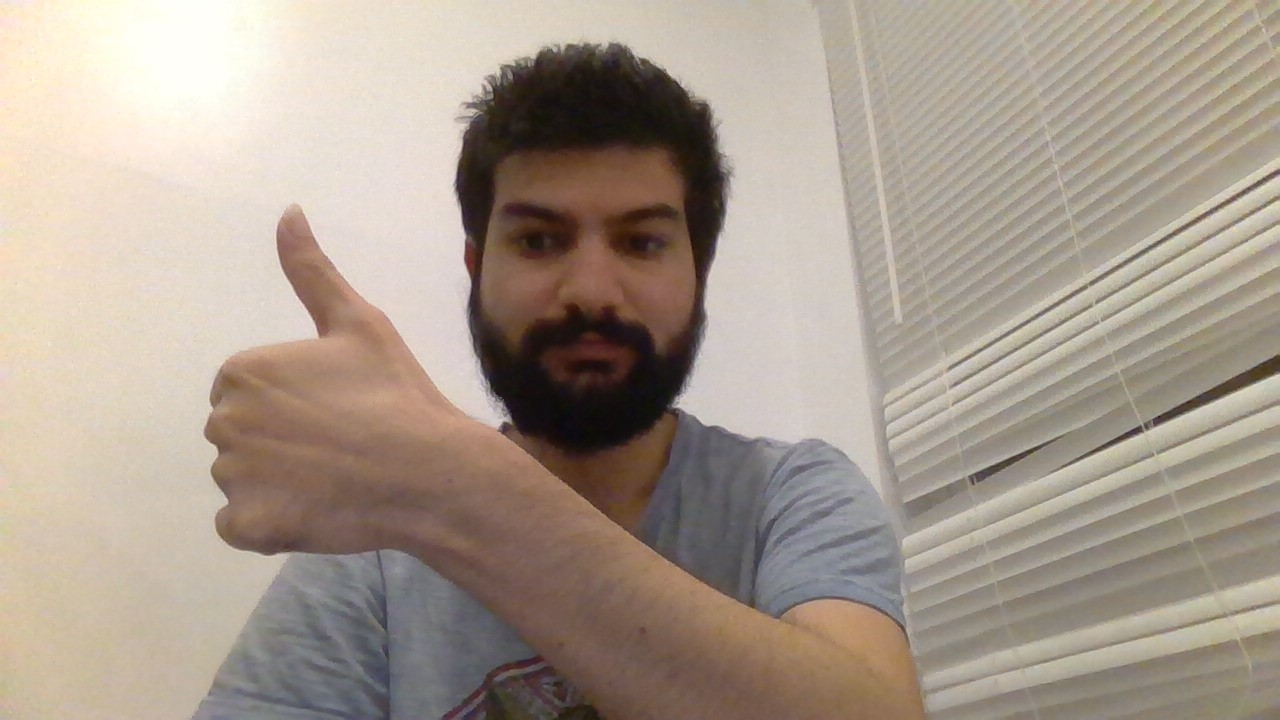up: (178, 185, 461, 573)
